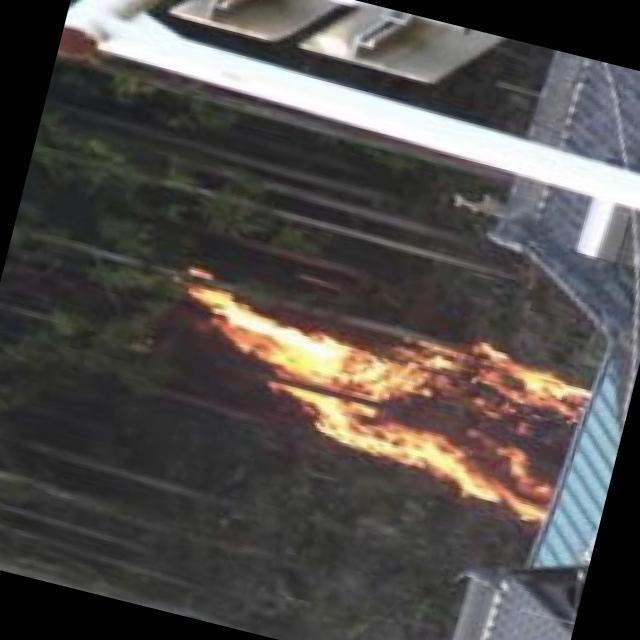Fire: (150, 265, 596, 522)
